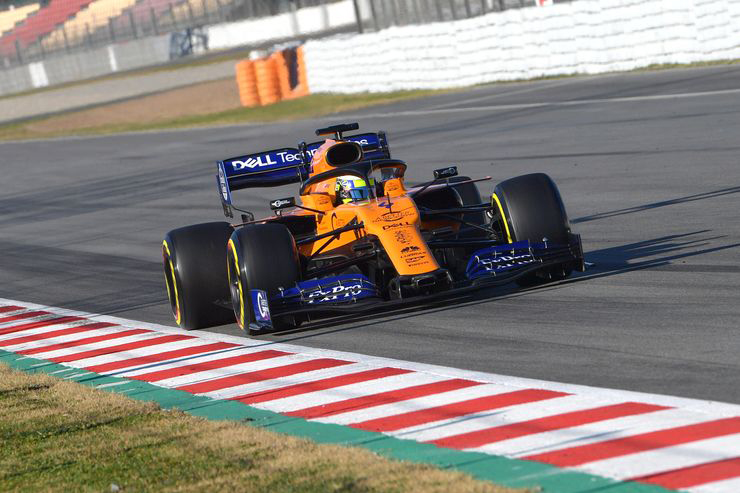F1 Car: (155, 115, 596, 339)
